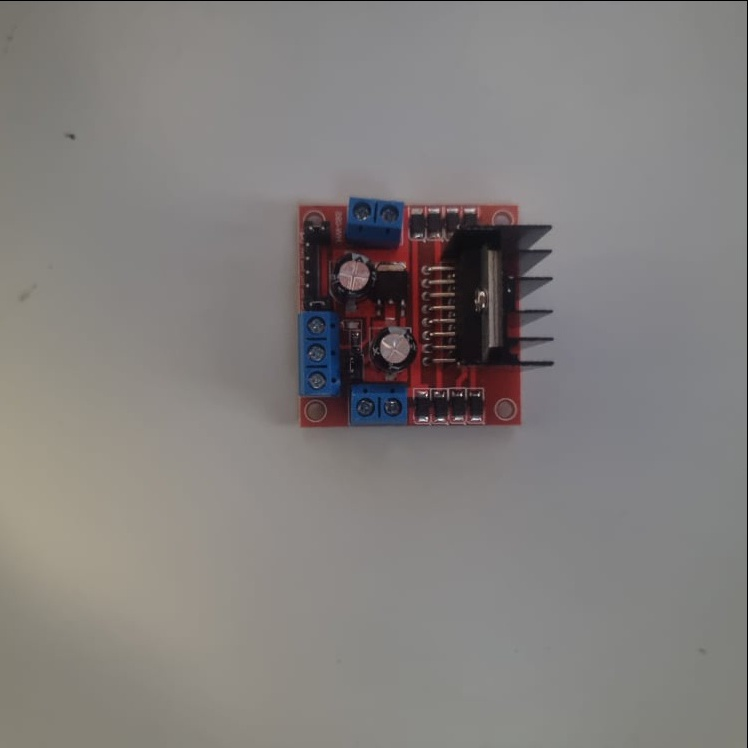MOTOR: (299, 193, 557, 429)
